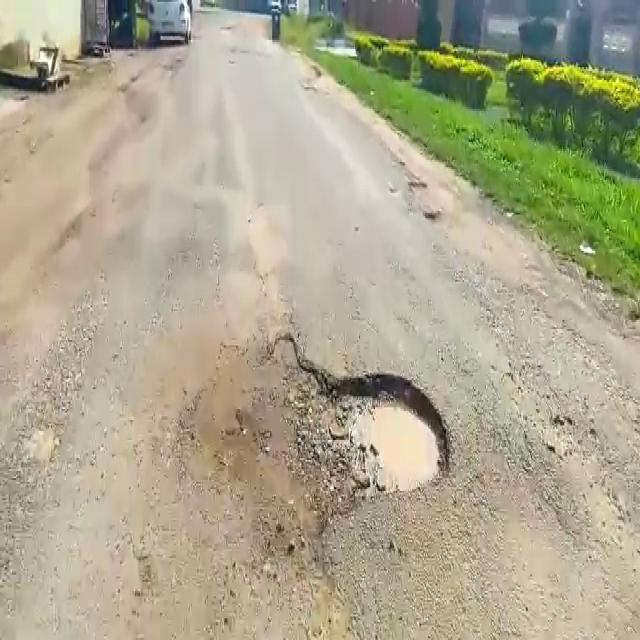Pothole: (183, 335, 459, 535)
